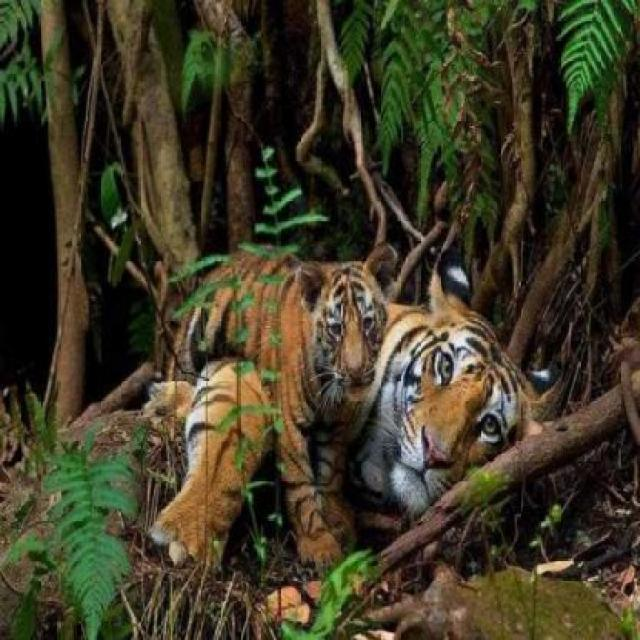Tiger: (139, 215, 390, 540), (336, 271, 567, 535)
